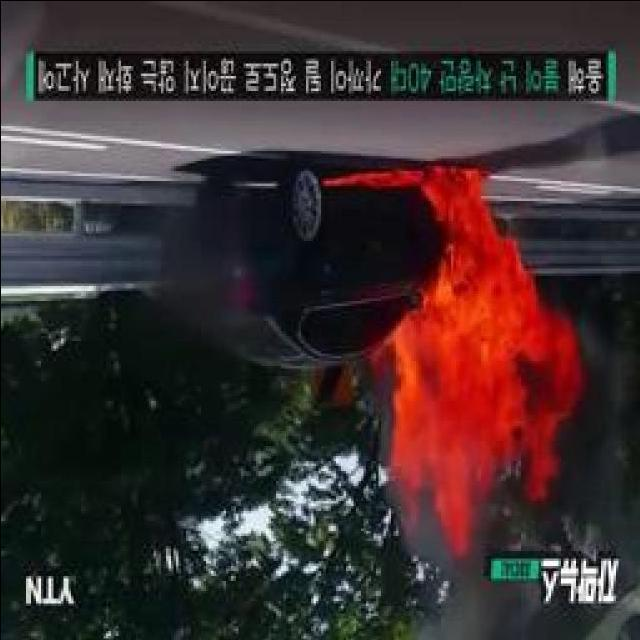Fire: (399, 164, 547, 516)
